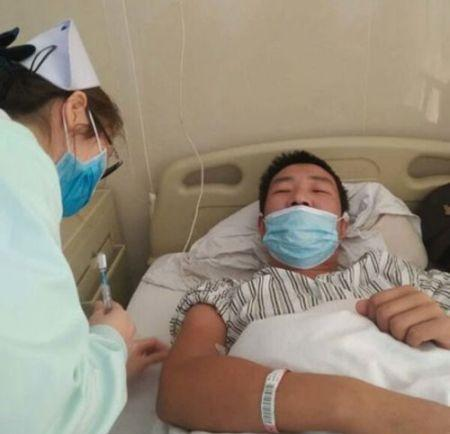OK: (45, 105, 114, 218)
WRONG: (258, 176, 342, 260)
